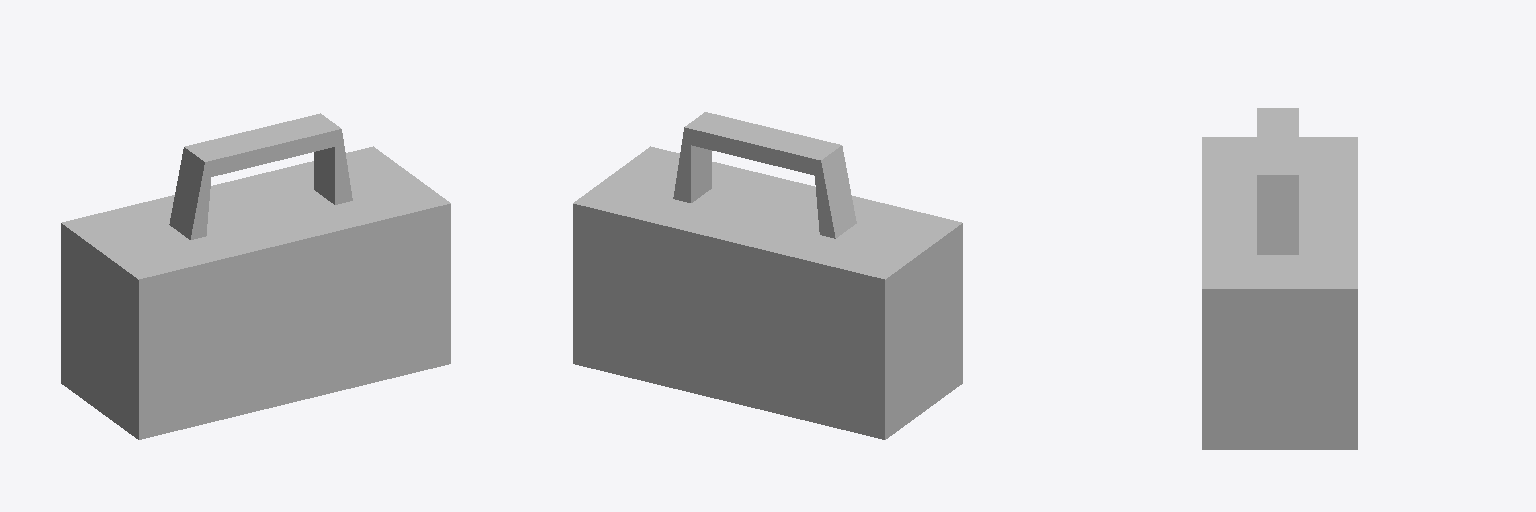
The model's file is BaseGethoBlaster.obj.
The picture shows the model from 3 angles: view 1: azimuth 30°, elevation 25°; view 2: azimuth 150°, elevation 25°; view 3: azimuth 270°, elevation 25°; orthographic projection.
Visible parts, largest first — view 1: Box002; view 2: Box002; view 3: Box002.
Part boxes in pixels (left/top/right/bottom): Box002: left=61, top=113, right=450, bottom=439; Box002: left=573, top=112, right=962, bottom=439; Box002: left=1202, top=108, right=1357, bottom=449.
Bounding box in the file's own units: 35.04 × 25.19 × 15.11.